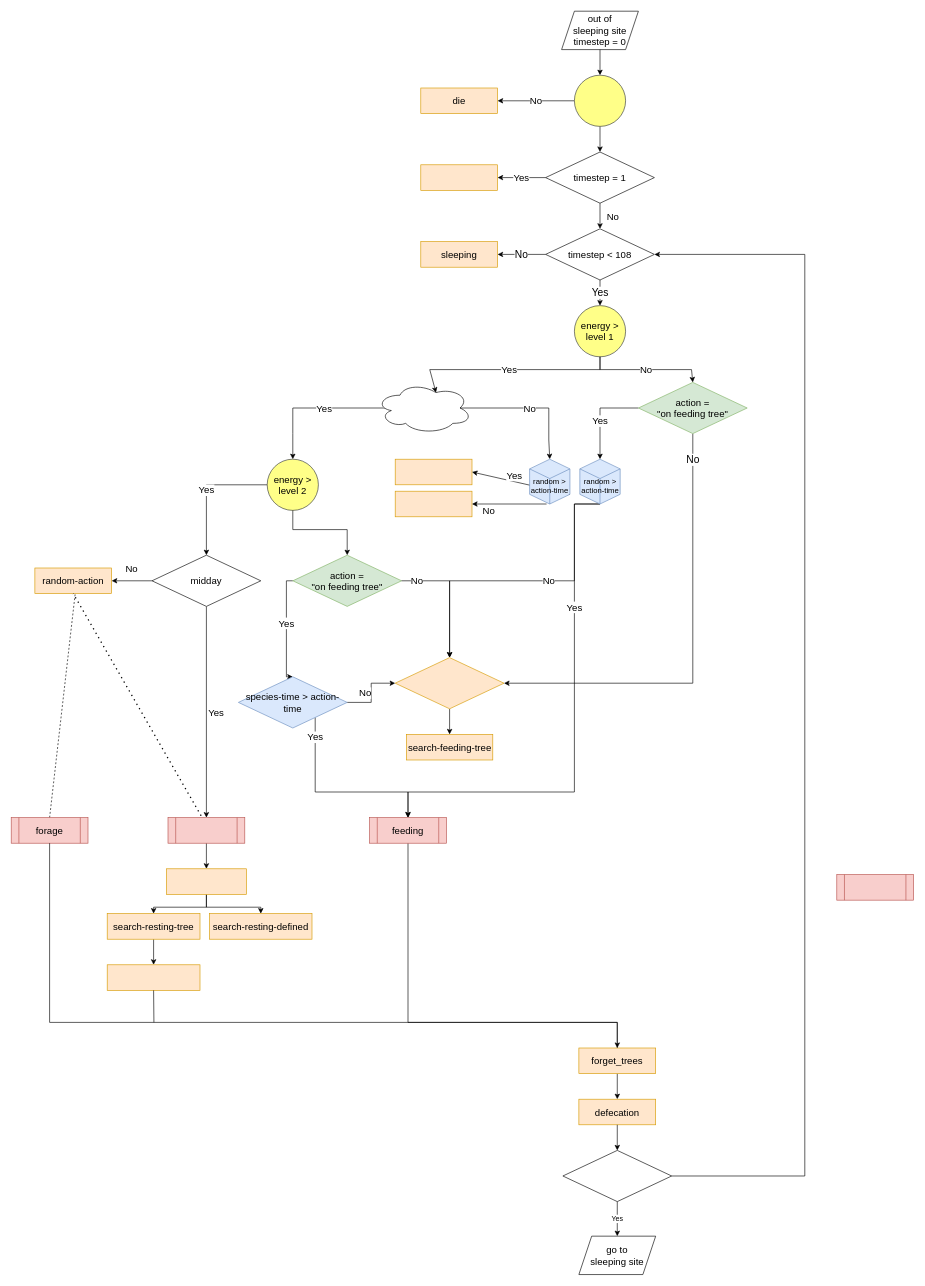
The diagram is 925 pixels wide and 1286 high, and some of its shapes have lost their labels. Here are the shapes that lost their labels. From the top down, the centre of each, then its label:
(600,100): energy > 1
(459,177): morning defecation
(423,408): status = hungry
(433,472): last-action-again
(433,504): change-bonus
(449,683): to-feeding-tree
(206,830): resting
(206,881): to-resting-tree
(875,887): travel
(153,977): hatch-resting-trees
(617,1176): timestep > 108
